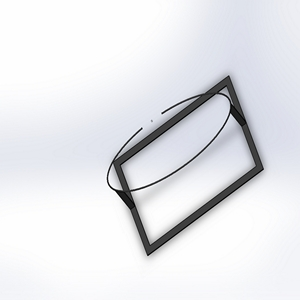circle: (105, 72, 267, 257)
